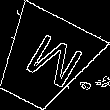M_SW: (10, 27, 79, 94)
